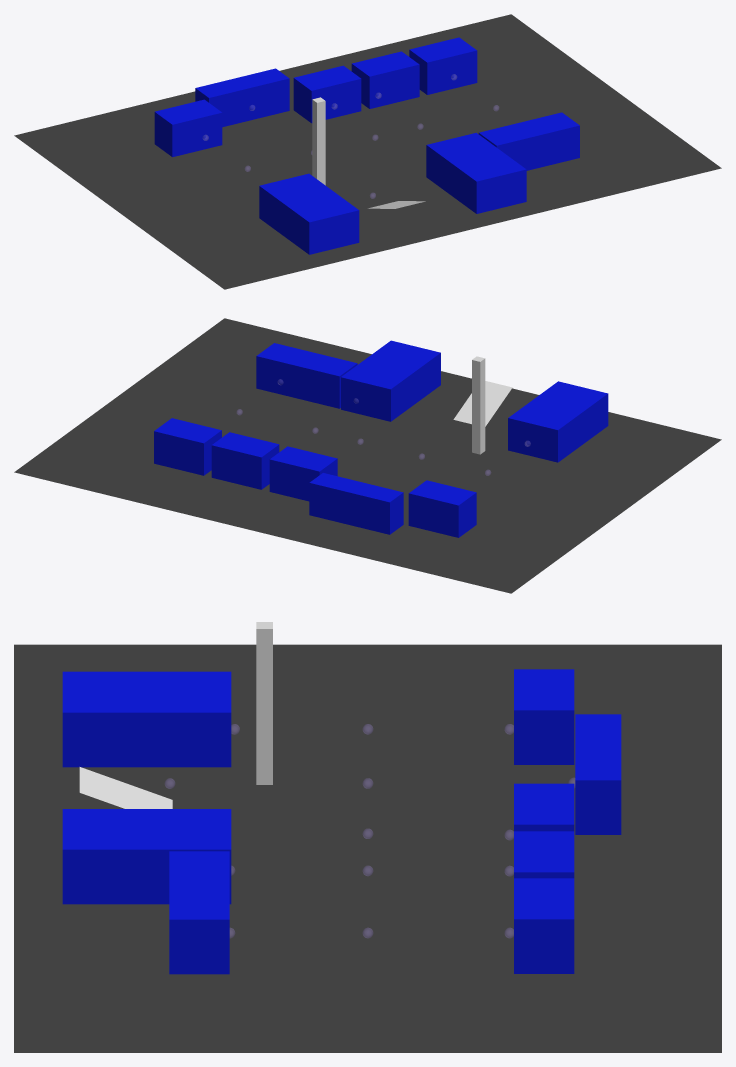
Rendered from mall.glb.
The picture shows the model from 3 angles, top to bottom: view 1: azimuth 30°, elevation 25°; view 2: azimuth 150°, elevation 25°; view 3: azimuth 270°, elevation 25°; orthographic projection. The views are drawn at different scales.
Parts seen in each view (by area): view 1: ground, shop_01_04, shop_01_08, shop_01_01, shop_01_06, shop_01_07, shop_01_03, shop_01_02, shop_01_05, Cube; view 2: ground, shop_01_08, shop_01_04, shop_01_01, shop_01_06, shop_01_07, shop_01_03, shop_01_02, shop_01_05, Cube, Plane; view 3: ground, shop_01_08, shop_01_04, shop_01_01, shop_01_02, shop_01_07, shop_01_06, shop_01_05, shop_01_03, Cube, Plane.
Boxes of the visible parts, x1,y1,x2,y2 form: ground: [14, 14, 721, 289]; shop_01_04: [426, 132, 526, 213]; shop_01_08: [259, 173, 359, 254]; shop_01_01: [478, 112, 579, 170]; shop_01_06: [195, 68, 289, 127]; shop_01_07: [154, 99, 222, 157]; shop_01_03: [351, 51, 419, 108]; shop_01_02: [409, 37, 477, 94]; shop_01_05: [293, 65, 361, 123]; Cube: [312, 97, 325, 185]; ground: [14, 318, 721, 593]; shop_01_08: [508, 381, 608, 462]; shop_01_04: [341, 340, 440, 421]; shop_01_01: [256, 343, 357, 408]; shop_01_06: [309, 473, 403, 534]; shop_01_07: [408, 480, 476, 537]; shop_01_03: [211, 432, 279, 489]; shop_01_02: [154, 418, 221, 475]; shop_01_05: [269, 446, 337, 501]; Cube: [472, 356, 485, 454]; Plane: [453, 381, 512, 426]; ground: [14, 644, 721, 1052]; shop_01_08: [62, 671, 231, 767]; shop_01_04: [62, 809, 231, 904]; shop_01_01: [169, 851, 229, 974]; shop_01_02: [514, 878, 574, 973]; shop_01_07: [514, 669, 574, 764]; shop_01_06: [575, 714, 621, 834]; shop_01_05: [514, 783, 574, 831]; shop_01_03: [514, 831, 574, 878]; Cube: [256, 622, 272, 784]; Plane: [79, 767, 172, 808].
Size of the model in its own units: 181 by 32.59 by 133.
